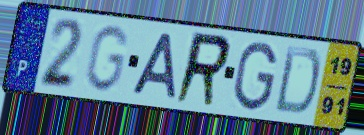2: (39, 17, 86, 91)
A: (128, 30, 178, 101)
D: (272, 43, 323, 118)
G: (81, 23, 131, 95), (232, 40, 279, 113)
R: (171, 29, 234, 110)
